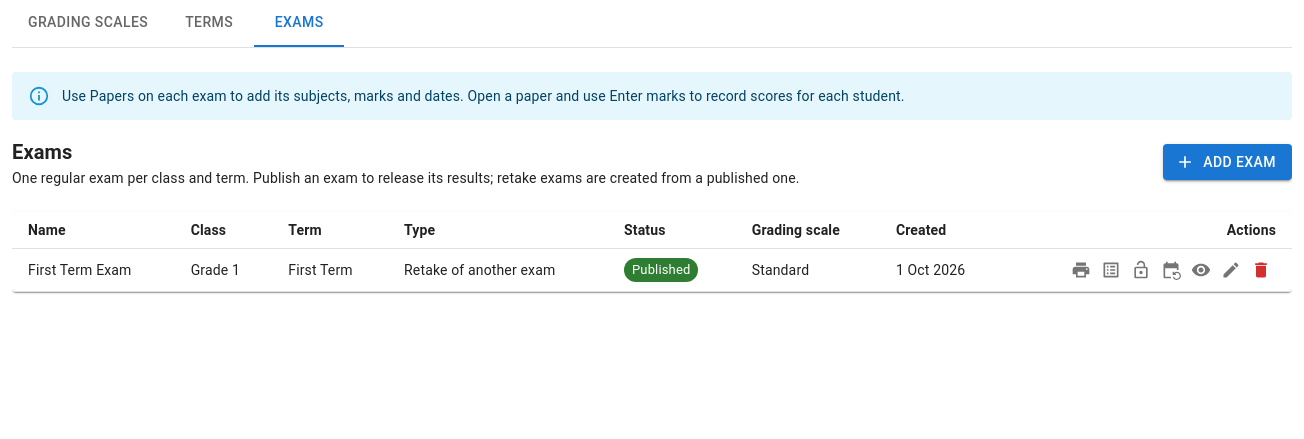
Test: ExaminationsManager exams › does not offer report cards for a retake exam, and hides documents the user cannot read
Click the button named "Documents".
click(1081, 270)  # box [1066,255,1096,285]
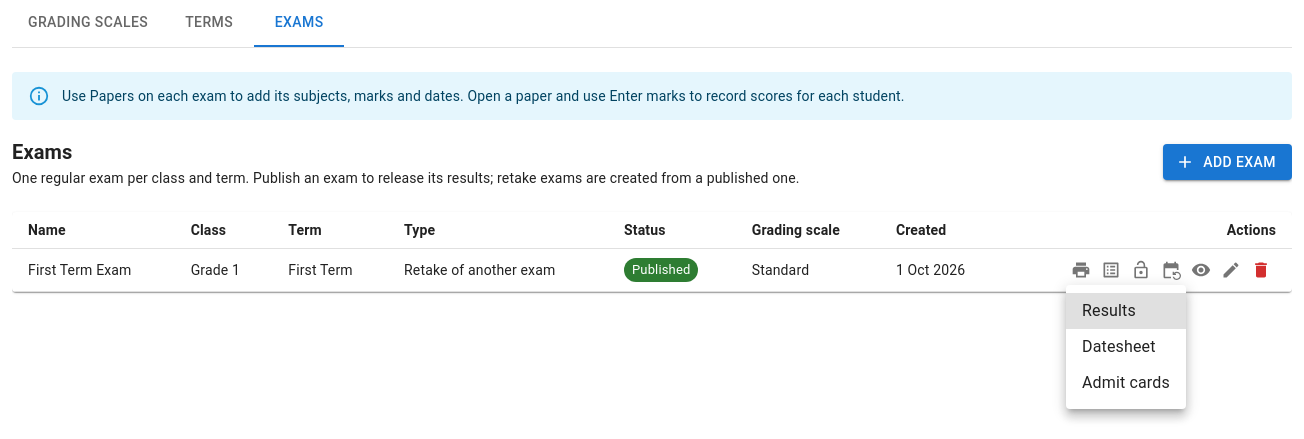
Check: the menu item "Results" is shown, box [1066,293,1186,329]
